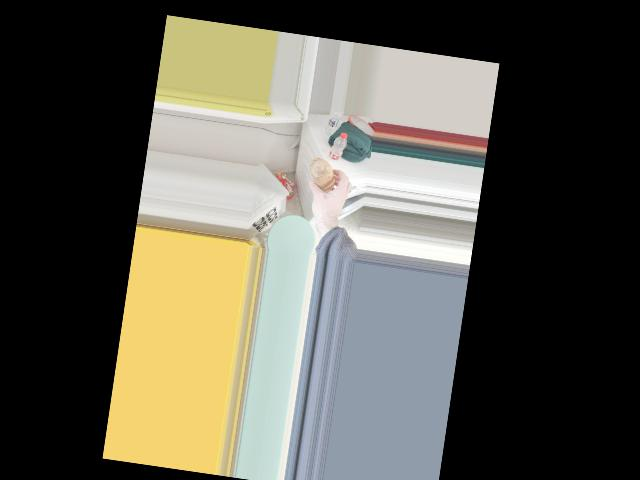sweet_potato: (306, 156, 339, 194)
